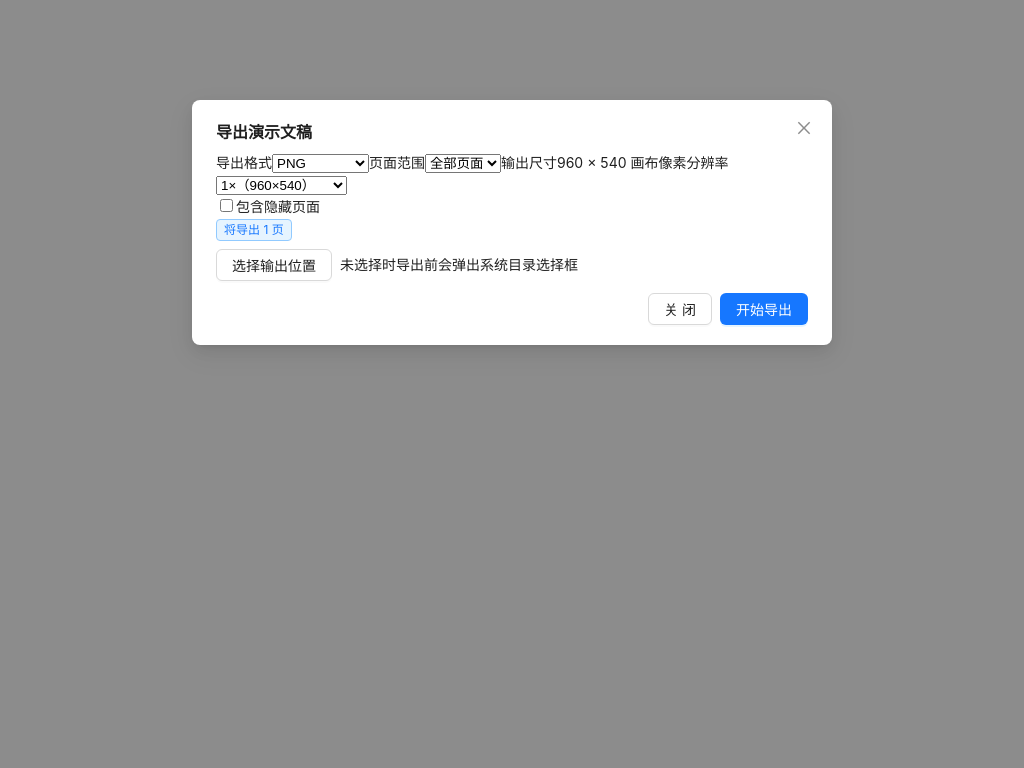
Test: 隐藏页默认排除，勾选后计入
Check: the text "将导出 1 页" is shown, box [216, 219, 292, 241]
Click the text "包含隐藏页面". click: (268, 206)
box: [216, 198, 320, 215]
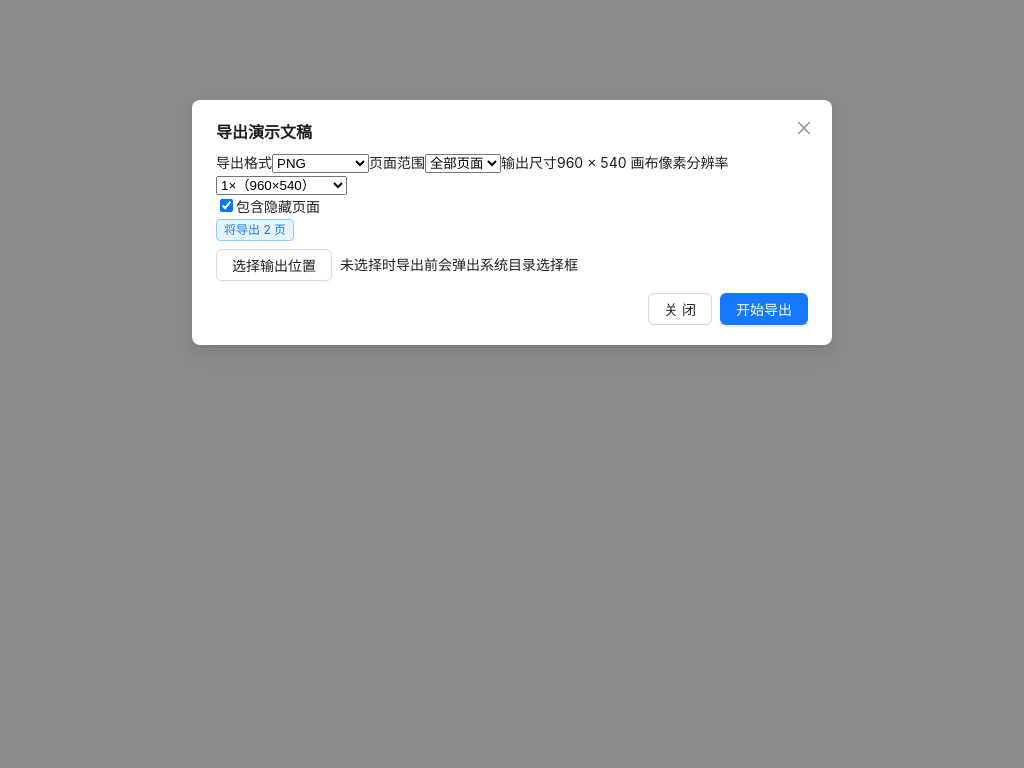
Check: the text "将导出 2 页" is shown, box [216, 219, 294, 241]
